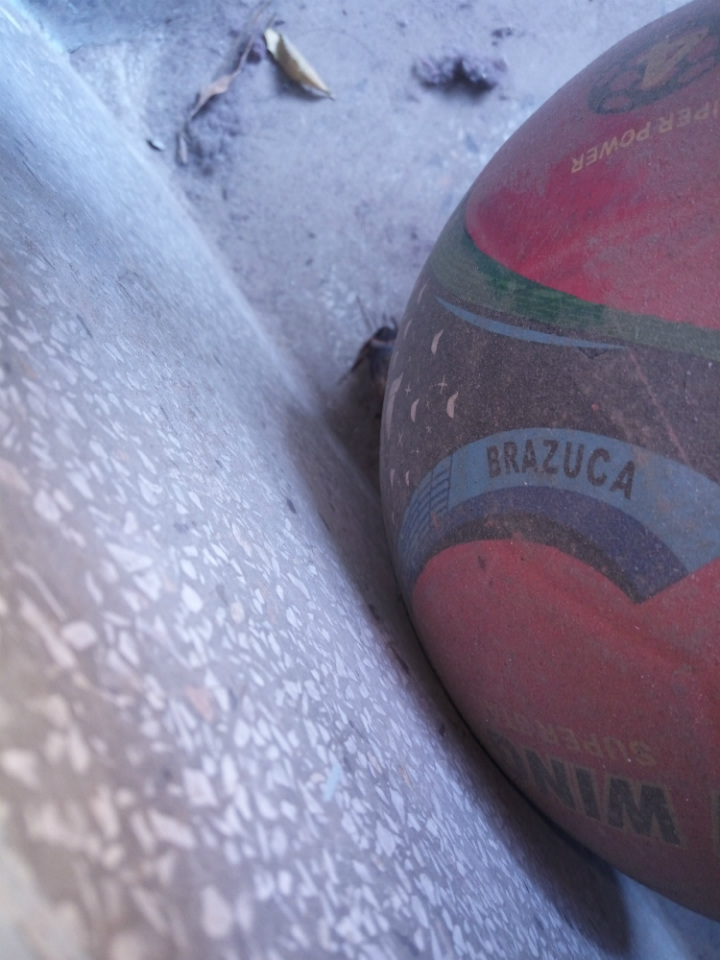cockroach: (323, 287, 409, 425)
